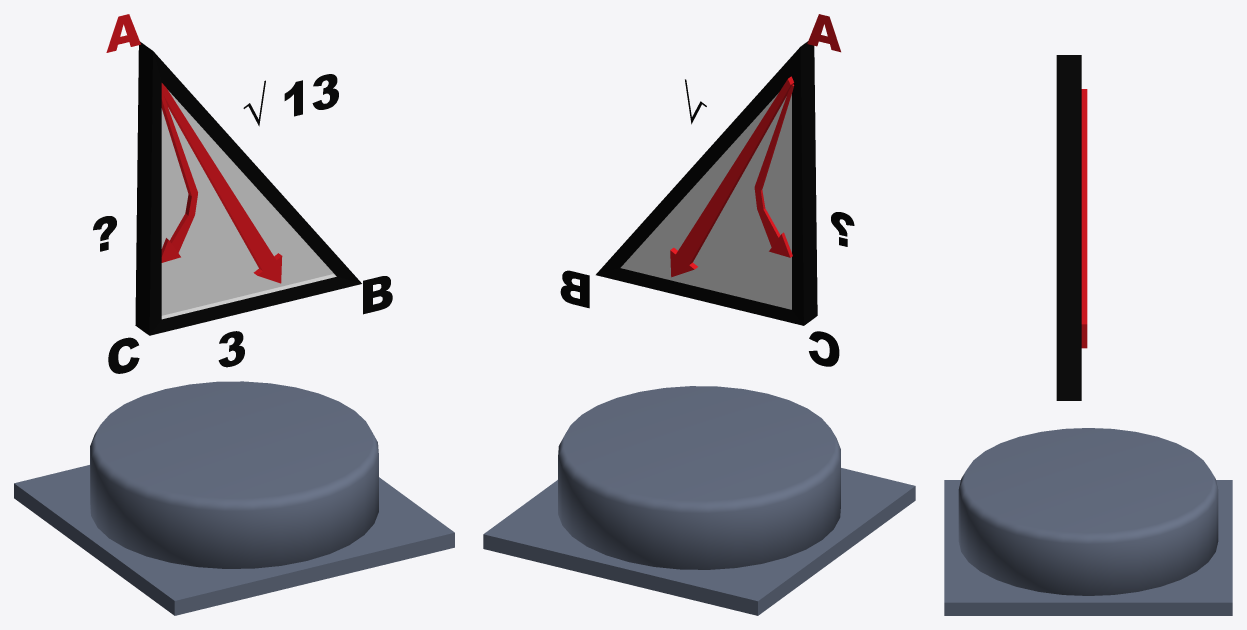
The picture shows the model from 3 angles, left to right: view 1: azimuth 30°, elevation 25°; view 2: azimuth 150°, elevation 25°; view 3: azimuth 270°, elevation 25°; orthographic projection. The views are drawn at different scales.
Visible parts, largest first — view 1: Cube, Cube.001, Cube.002, Cube.003, Text.004, Text.001, Text.003, Text.002; view 2: Cube, Cube.001, Cube.002, Cube.003, Text.001, Text.003, Text.002; view 3: Cube, Cube.001, Cube.002.
Part boxes in pixels (<box>): Cube: <box>14,381,454,615</box>; Cube.001: <box>135,41,361,335</box>; Cube.002: <box>161,83,282,283</box>; Cube.003: <box>161,92,197,262</box>; Text.004: <box>243,74,338,126</box>; Text.001: <box>363,276,392,314</box>; Text.003: <box>106,14,140,52</box>; Text.002: <box>108,337,139,373</box>; Cube: <box>483,386,915,615</box>; Cube.001: <box>596,41,817,325</box>; Cube.002: <box>670,76,793,277</box>; Cube.003: <box>754,84,794,257</box>; Text.001: <box>560,270,589,308</box>; Text.003: <box>807,14,840,52</box>; Text.002: <box>809,331,839,366</box>; Cube: <box>944,428,1232,615</box>; Cube.001: <box>1056,55,1081,400</box>; Cube.002: <box>1081,89,1087,348</box>.
Bounding box in the file's own units: 9.78 × 16.92 × 9.09.
